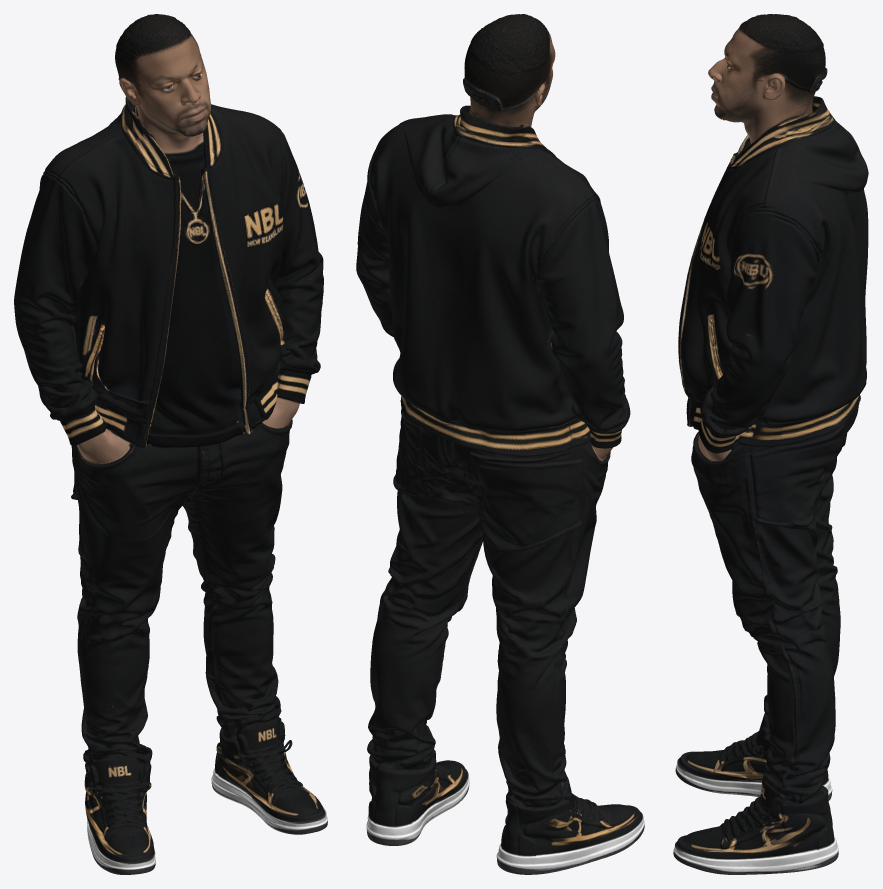
Rendered from NBL_Model_Toy_2-optimized.glb.
The picture shows the model from 3 angles, left to right: view 1: azimuth 30°, elevation 25°; view 2: azimuth 150°, elevation 25°; view 3: azimuth 270°, elevation 25°; orthographic projection. The views are drawn at different scales.
Bounding box in the file's own units: 0.6693 × 1.9 × 0.4226.
Materials: 1 (1 with a texture image).
